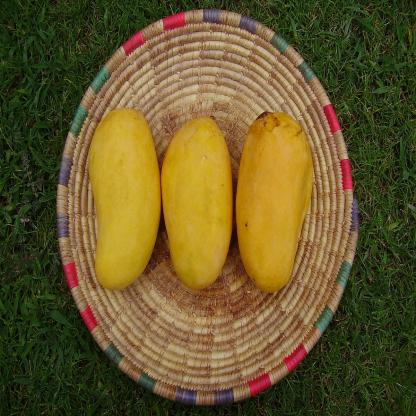--: (161, 108, 242, 290), (84, 100, 160, 290), (235, 112, 315, 292)
